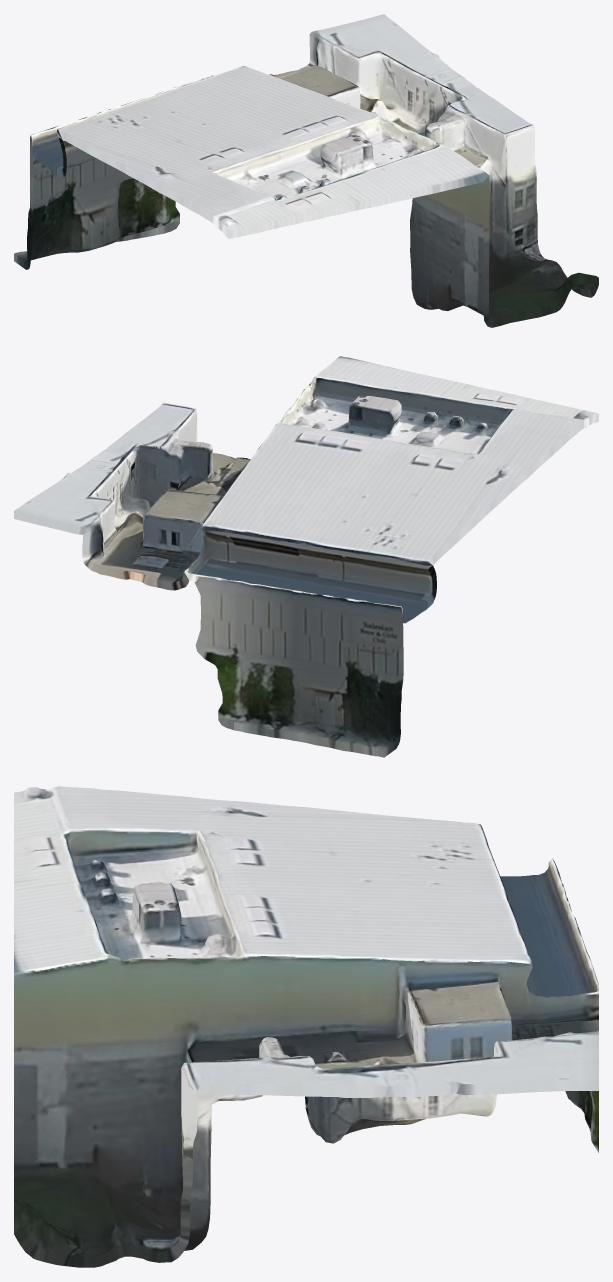
File: z20-167740-405197-h0-yup-uvflip-v3-world.glb
3 views of the same model, one above another, from view 1: azimuth 30°, elevation 25°; view 2: azimuth 150°, elevation 25°; view 3: azimuth 270°, elevation 25° (orthographic). The views are drawn at different scales.
Size of the model in its own units: 30.16 by 15.92 by 30.32.
1 material, 1 textured.
